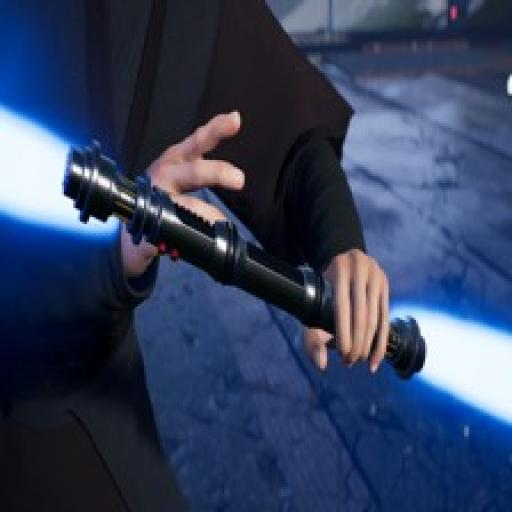lightsaber: (0, 105, 512, 428)
